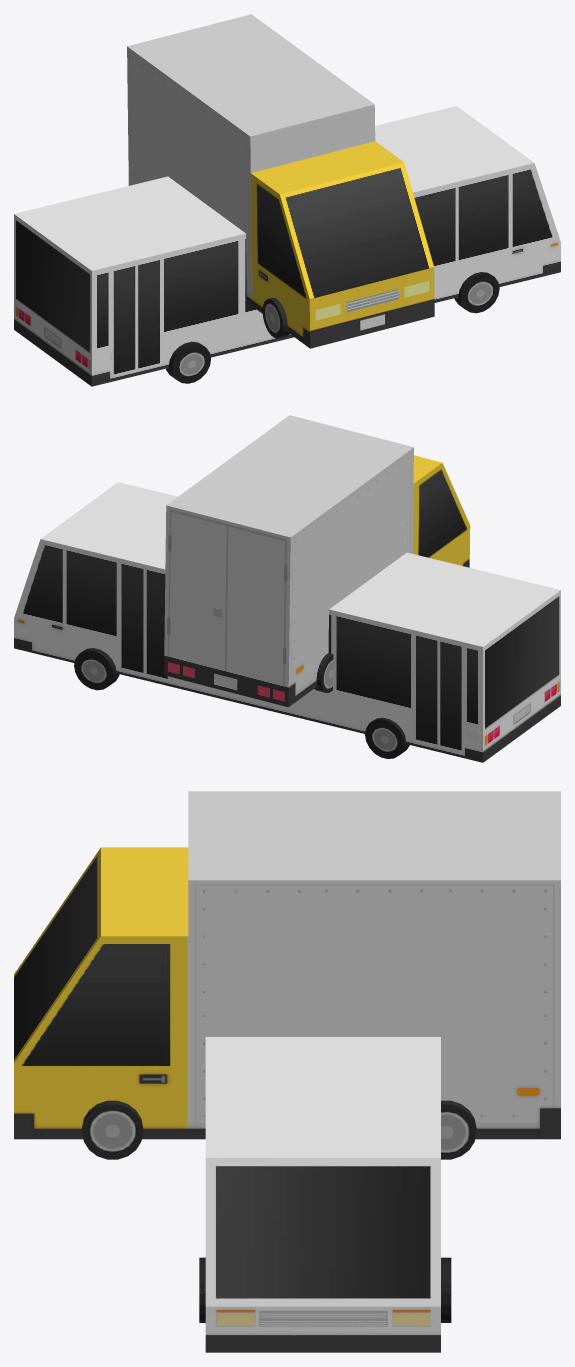
Rendered from item0.glb.
3 views of the same model, one above another, from view 1: azimuth 30°, elevation 25°; view 2: azimuth 150°, elevation 25°; view 3: azimuth 270°, elevation 25° (orthographic). The views are drawn at different scales.
Parts seen in each view (by area): view 1: Car_07, Car_12; view 2: Car_12, Car_07; view 3: Car_07, Car_12.
Boxes of the visible parts, <box> form: Car_07: <box>127,14,434,348</box>; Car_12: <box>14,106,560,386</box>; Car_12: <box>14,482,560,762</box>; Car_07: <box>164,415,470,707</box>; Car_07: <box>14,791,560,1159</box>; Car_12: <box>199,1037,451,1352</box>.
Bounding box in the file's own units: 1.81 × 0.8726 × 1.21.
Materials: 4 (4 with a texture image).
